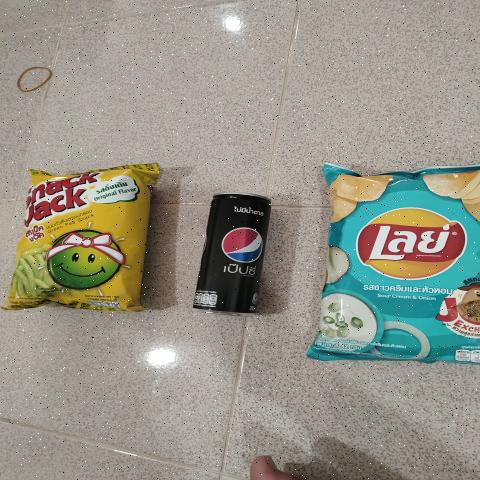lay_blue: (324, 176, 480, 354)
pepsi_black: (193, 192, 273, 310)
snack_jack: (32, 174, 132, 300)
